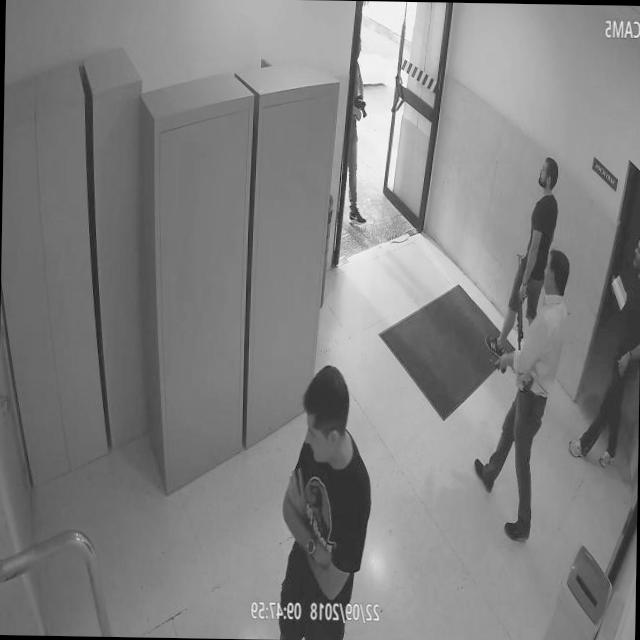gun: (510, 248, 530, 349), (484, 354, 508, 381)
person: (272, 354, 375, 640)
person with a gun: (470, 245, 573, 546), (484, 151, 560, 358)
